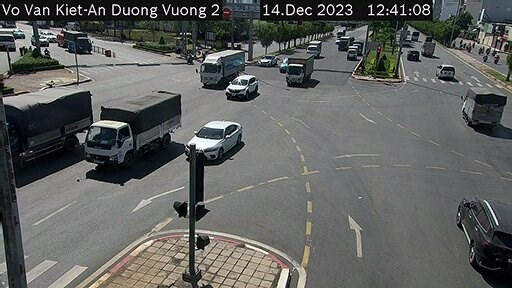car: (447, 190, 512, 276), (189, 115, 239, 160), (227, 73, 255, 103), (435, 61, 456, 80), (405, 49, 419, 60)
truck: (94, 85, 177, 169), (1, 87, 90, 162), (194, 47, 248, 85), (463, 84, 506, 130), (279, 51, 313, 86), (64, 29, 93, 57), (309, 37, 325, 58), (421, 40, 437, 56)
